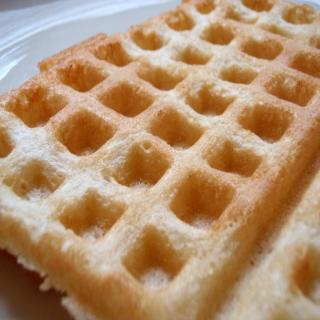Waffle: (1, 0, 320, 320)
